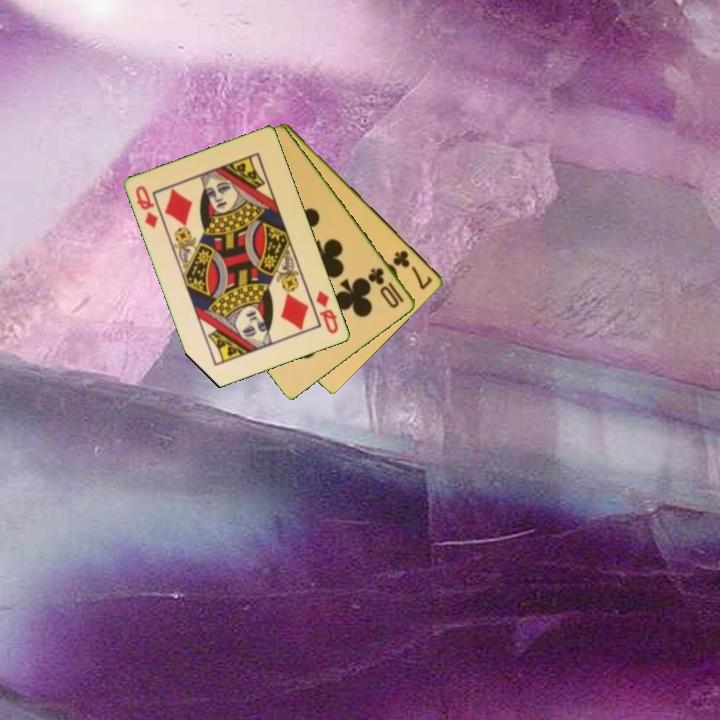10c: (365, 264, 407, 311)
7c: (390, 246, 435, 292)
Qd: (313, 287, 342, 337), (132, 182, 161, 231)
